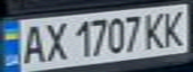0: (106, 15, 127, 55)
1: (69, 17, 93, 59)
7: (87, 16, 109, 56), (124, 12, 145, 52)
A: (15, 21, 48, 65)
K: (139, 9, 169, 51), (160, 7, 190, 47)
X: (39, 18, 69, 62)
